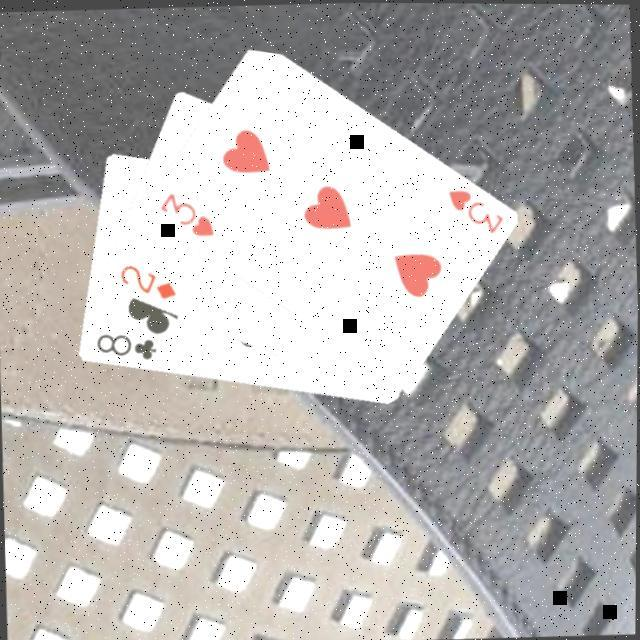2D: (116, 260, 180, 304)
3H: (444, 184, 508, 238), (156, 188, 218, 242)
8C: (92, 329, 161, 365)
